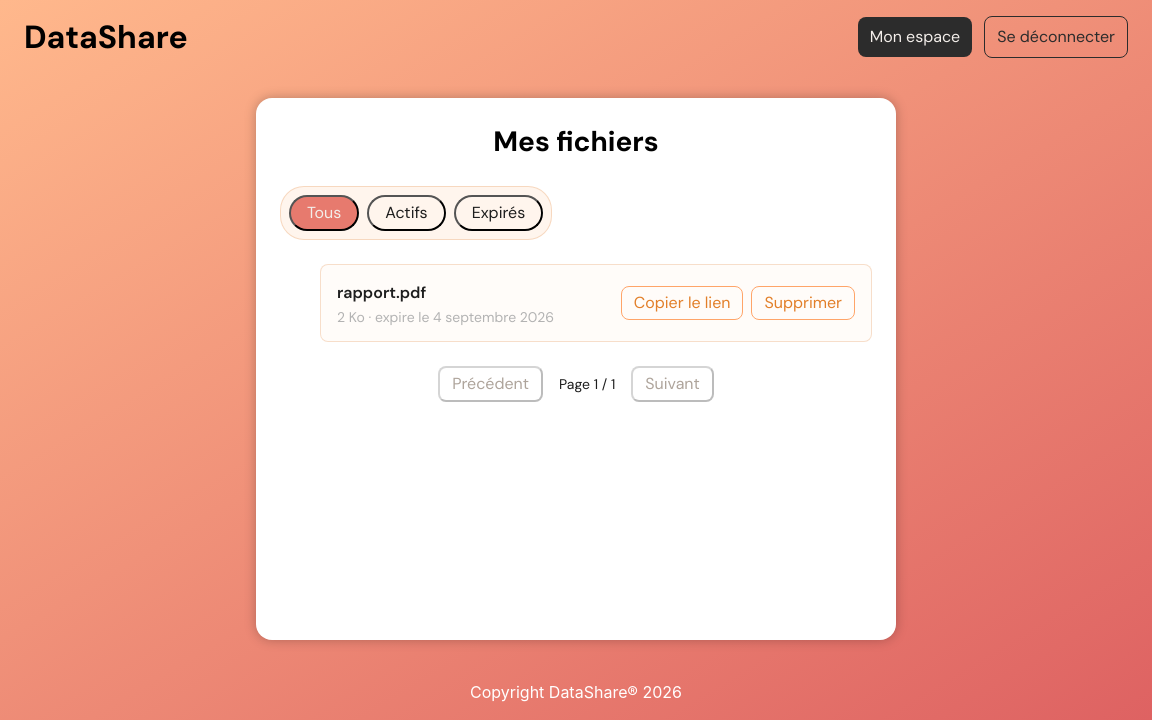
MyFilesView › affiche un message quand la copie échoue, sans bloquer les autres lignes
What coordinates should you click on to do the following:
click the button with class "file-row-copy-button"
I would click on:
 (682, 303)
Its box is [621,286,744,320].
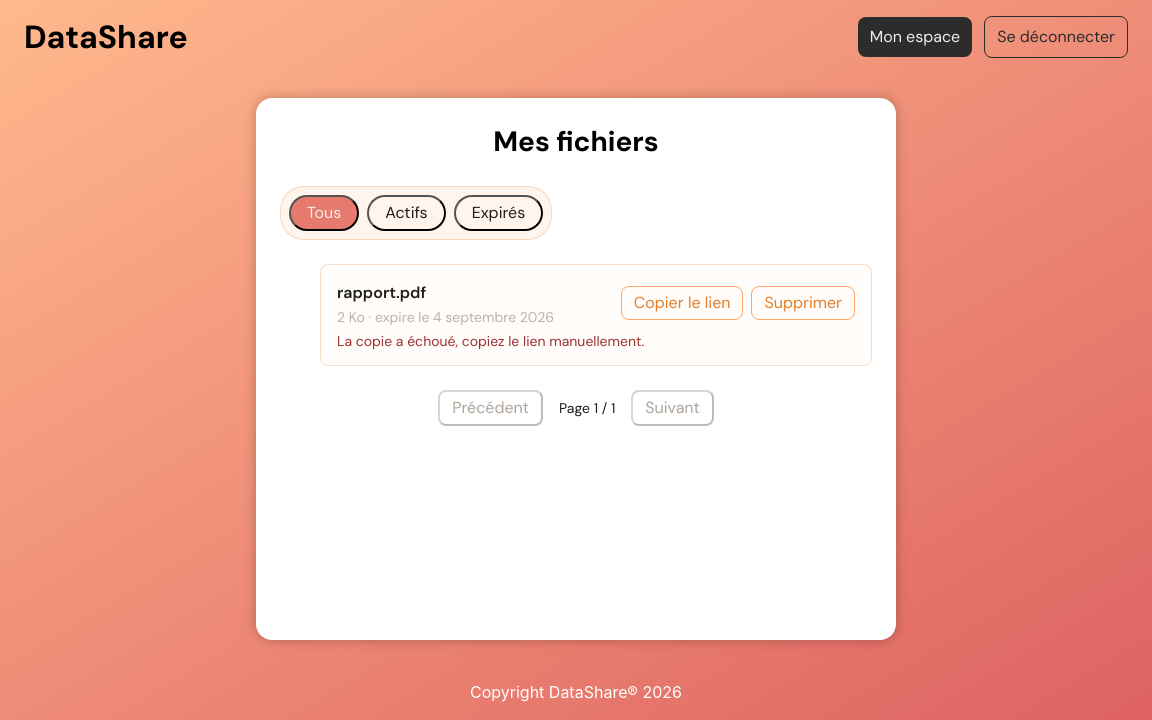
Now the message with class "file-row-copy-error" reads "La copie a échoué, copiez le lien manuellement.", box [337,332,644,350]
